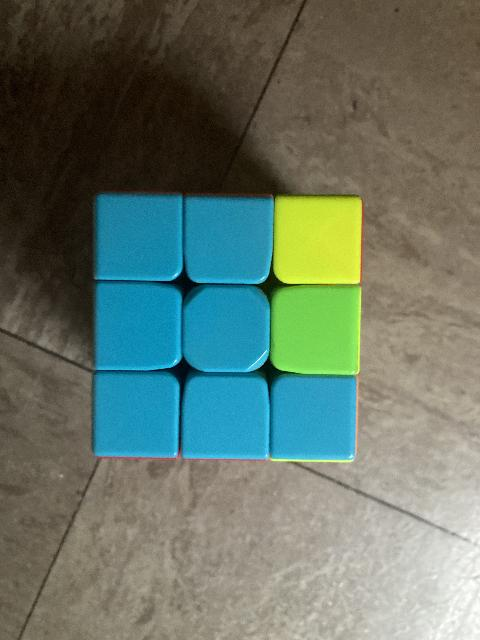Blue: (94, 282, 180, 368), (93, 192, 181, 276), (185, 287, 270, 369), (91, 376, 177, 454), (191, 196, 269, 278), (276, 373, 350, 457), (186, 378, 266, 454)
Green: (276, 287, 360, 369)
Yellow: (278, 198, 360, 282)
